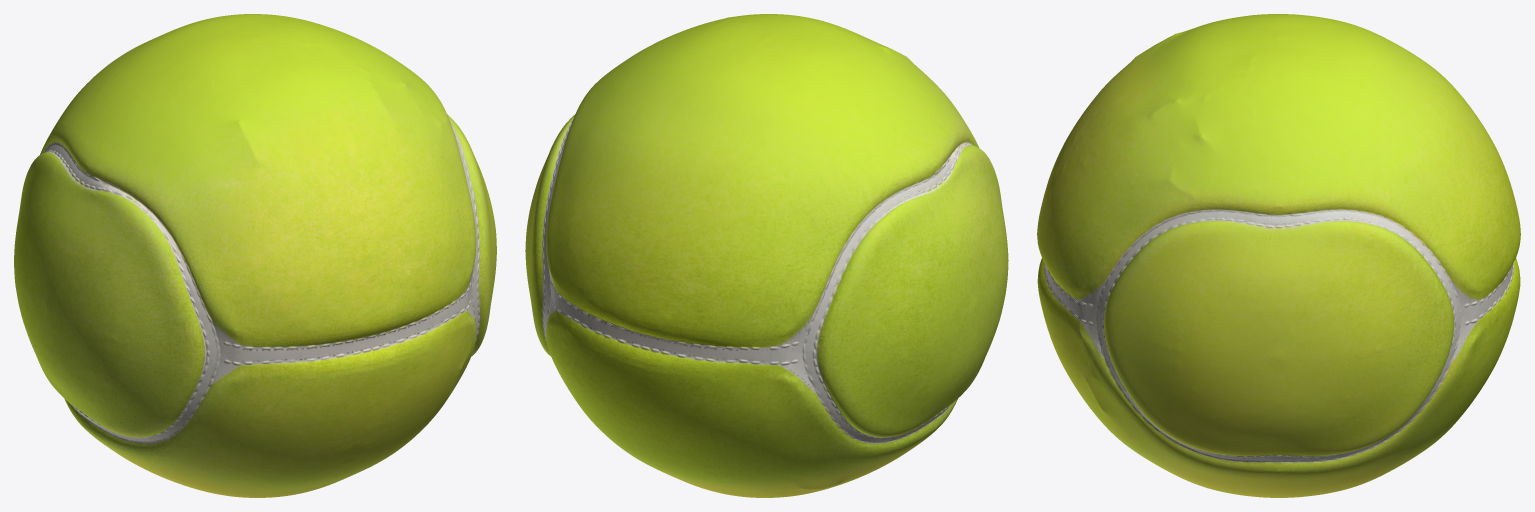
The model's file is Pallina tennis.glb.
3 views of the same model, side by side, from view 1: azimuth 30°, elevation 25°; view 2: azimuth 150°, elevation 25°; view 3: azimuth 270°, elevation 25° (orthographic).
Bounding box in the file's own units: 1.89 × 1.89 × 1.89.
1 material, 1 textured.
